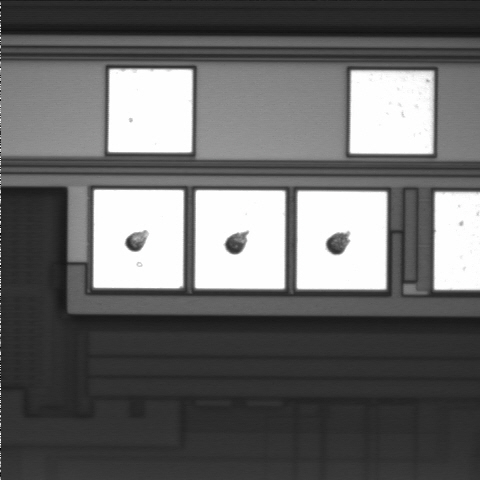pad: (93, 190, 184, 288), (195, 190, 285, 289), (297, 191, 387, 289), (108, 69, 192, 153), (350, 71, 433, 154)
